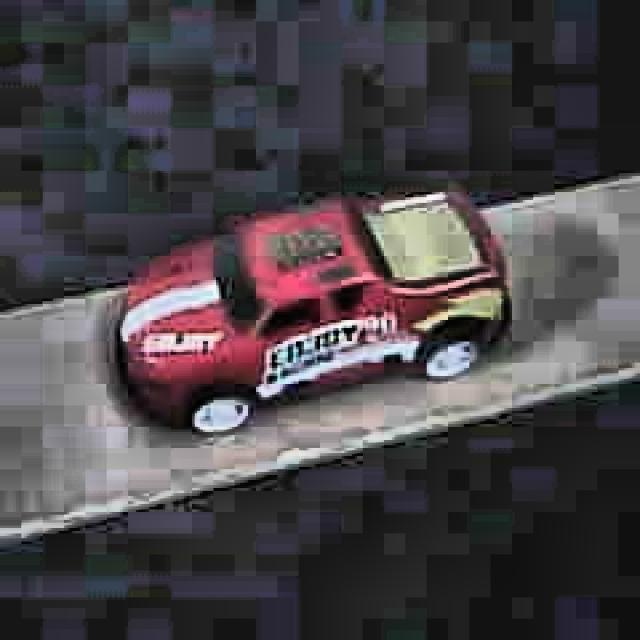car: (114, 180, 514, 434)
